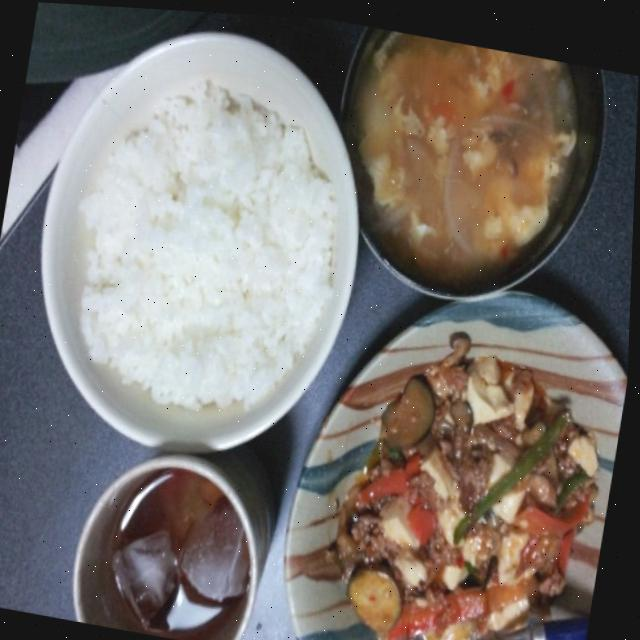汤锅炖物: (324, 18, 615, 315)
米饭主食: (0, 0, 395, 492)
